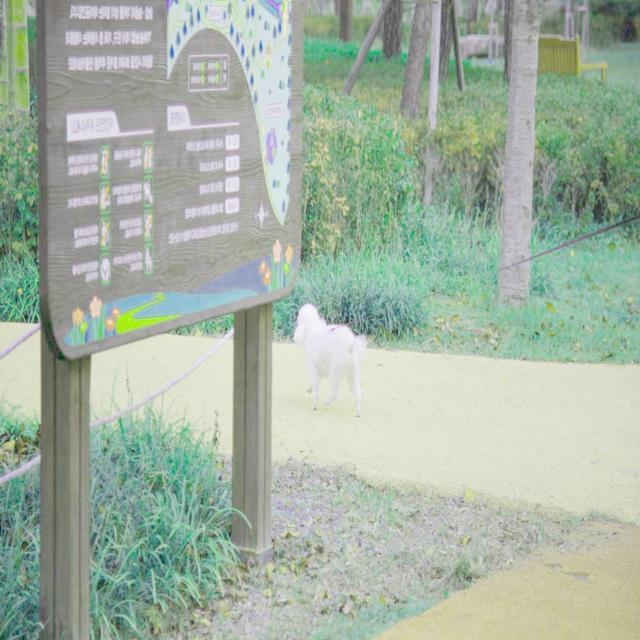Dog: (293, 302, 367, 417)
